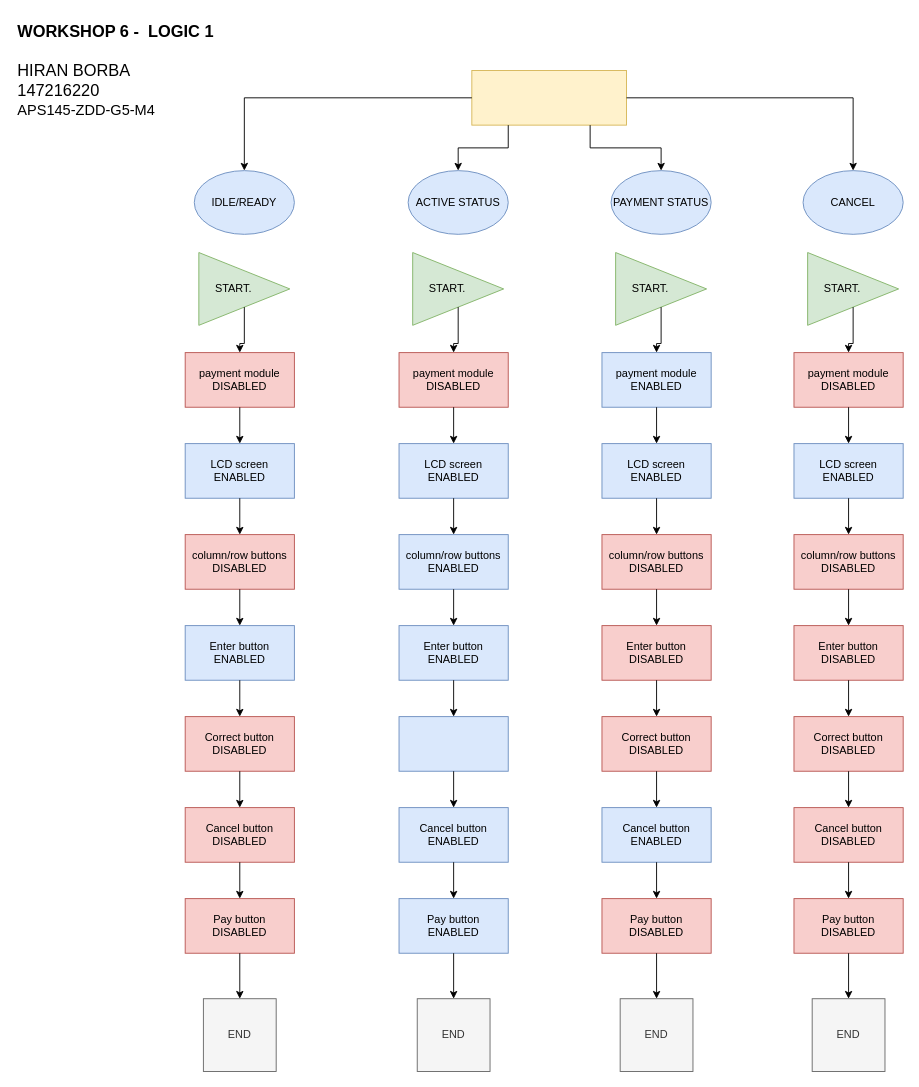
Image size: 919x1087. Some labels were removed from this diagram. Each missing label, with the centre of its shape:
"Correct button ENABLED" goes at pixel 453 743.
"HARDWARE STATE" goes at pixel 549 97.
